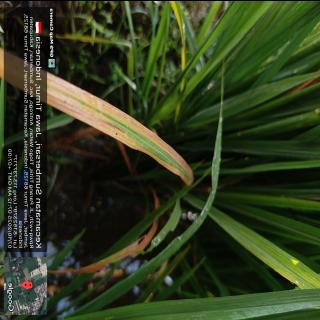Hawar-Daun: (48, 71, 191, 186)
